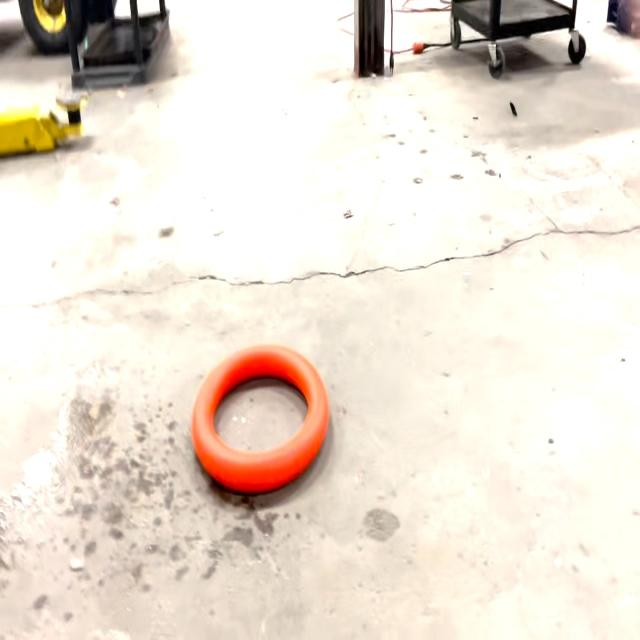note: (194, 340, 331, 496)
